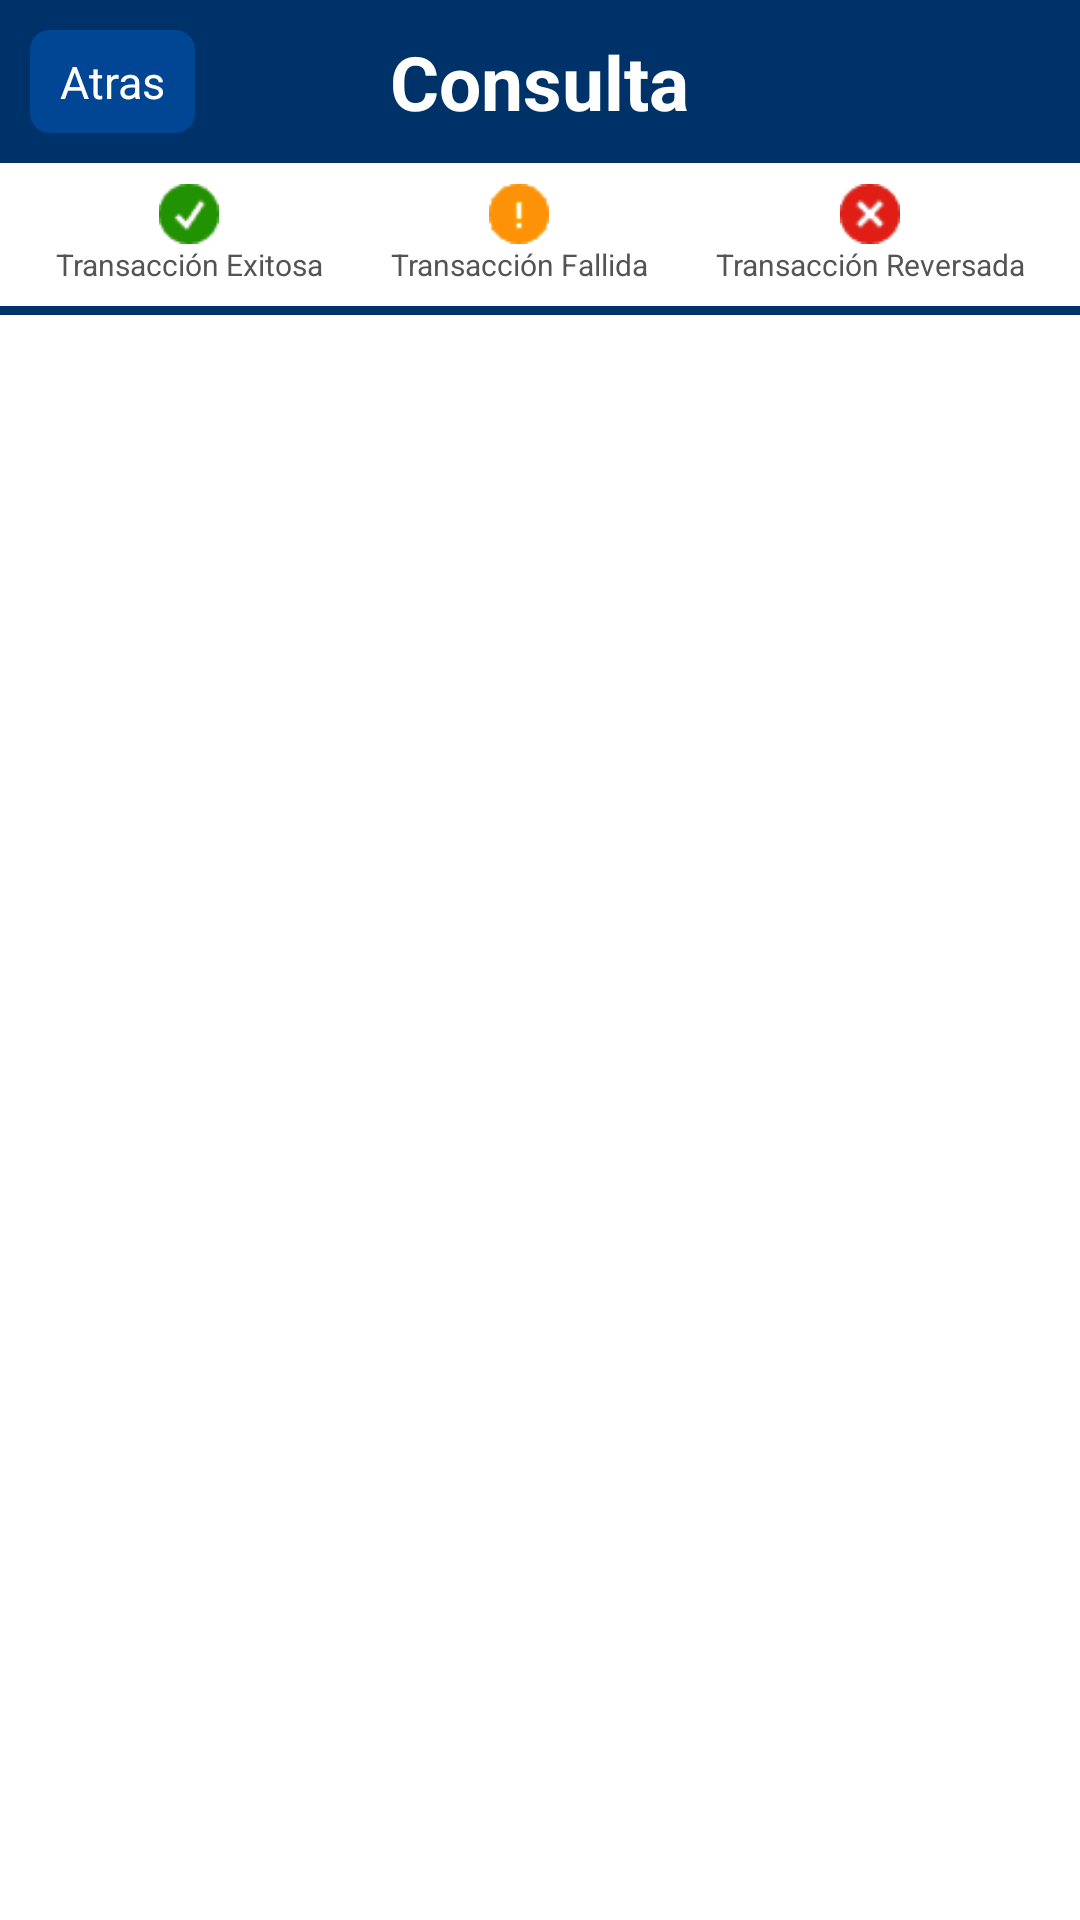

Icons on this 1080*1920 Android screen, each with the point to tap as point (x, y):
cancel: point (870, 214)
